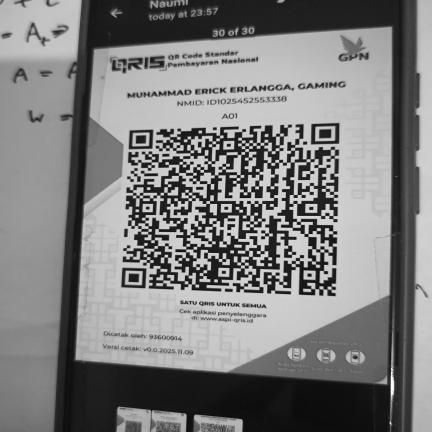Cara Pakai QRIS: (271, 335, 372, 381)
Cek Aplikasi Penyelenggara: (176, 307, 273, 328)
Dicetak Oleh: (100, 328, 189, 344)
Logo GPN: (329, 31, 377, 66)
Logo dan deskripsi QRIS: (100, 42, 272, 79)
Nama Merchant: (120, 75, 351, 102)
National Merchant ID: (172, 94, 298, 110)
QR Code: (119, 120, 345, 300)
Slogan: (176, 298, 274, 312)
Terminal ID: (218, 110, 242, 122)
Versi Cetak: (100, 340, 201, 358)
